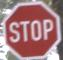Stop sign: (0, 0, 62, 59)
